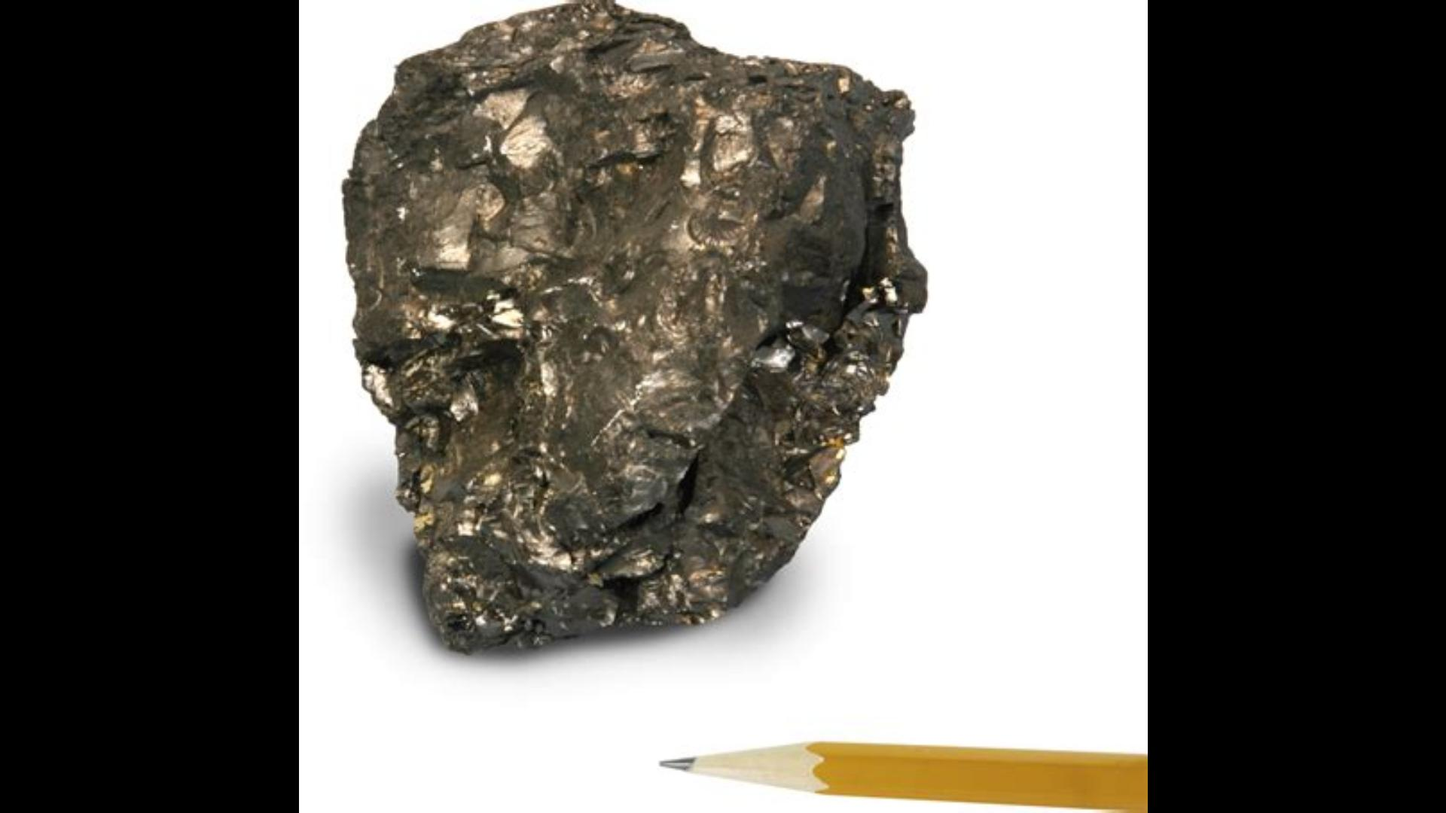rock: (343, 4, 923, 646)
